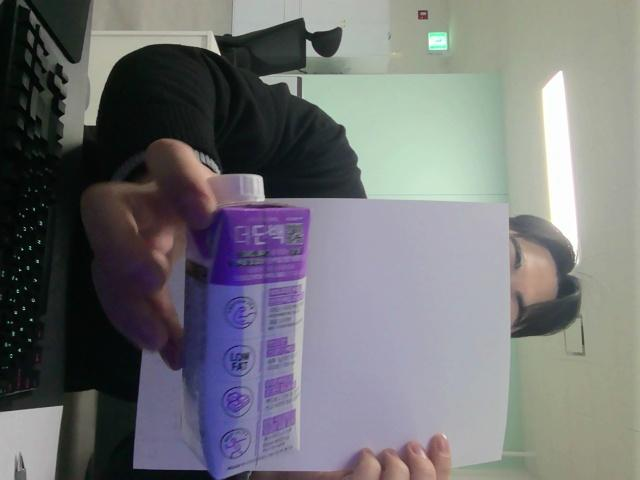milk: (182, 175, 308, 478)
